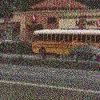buses: (29, 27, 100, 57)
